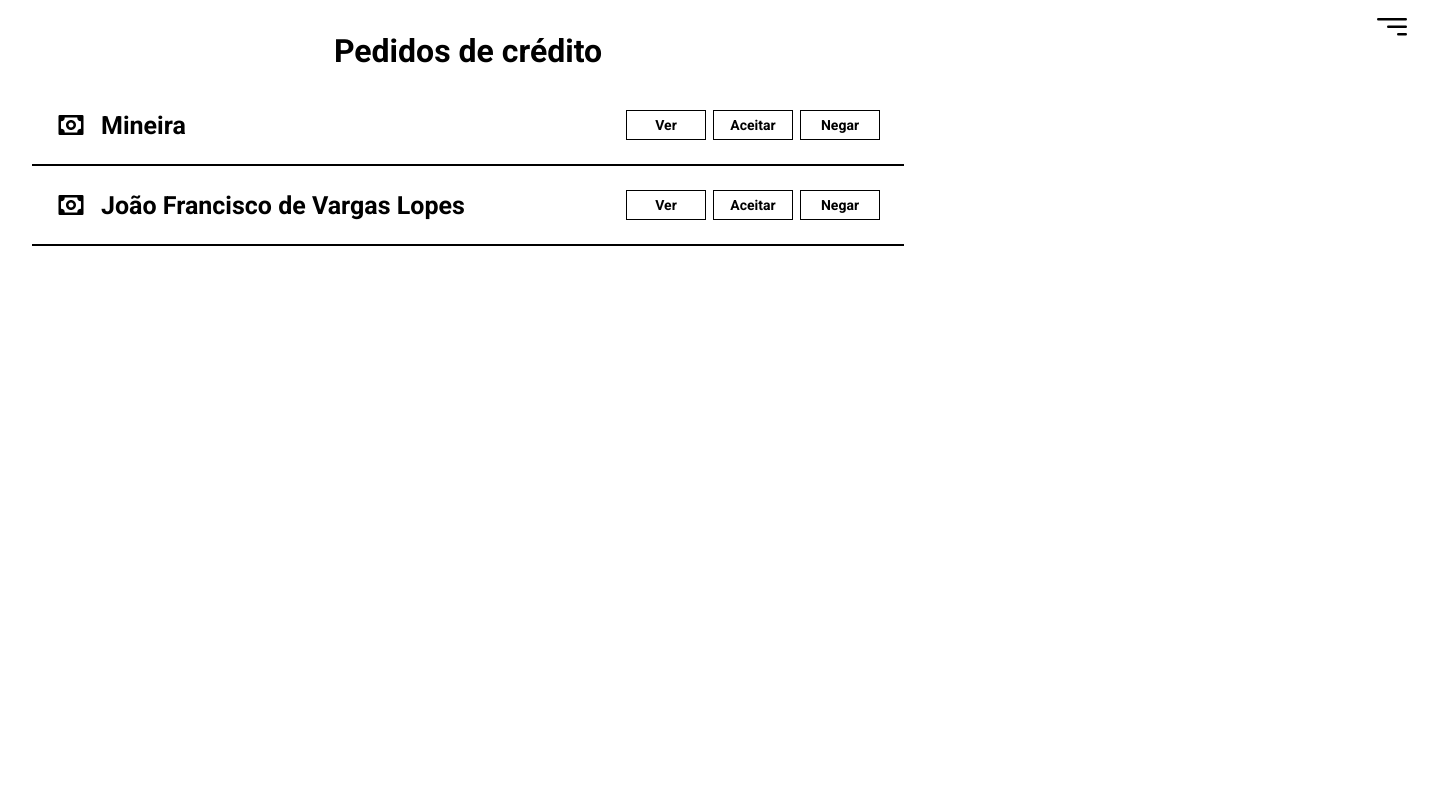
Test case: Credits › Close warning deny
Click the button "Negar" in the row of "Mineira".
click(840, 125)  # box [800,110,880,140]
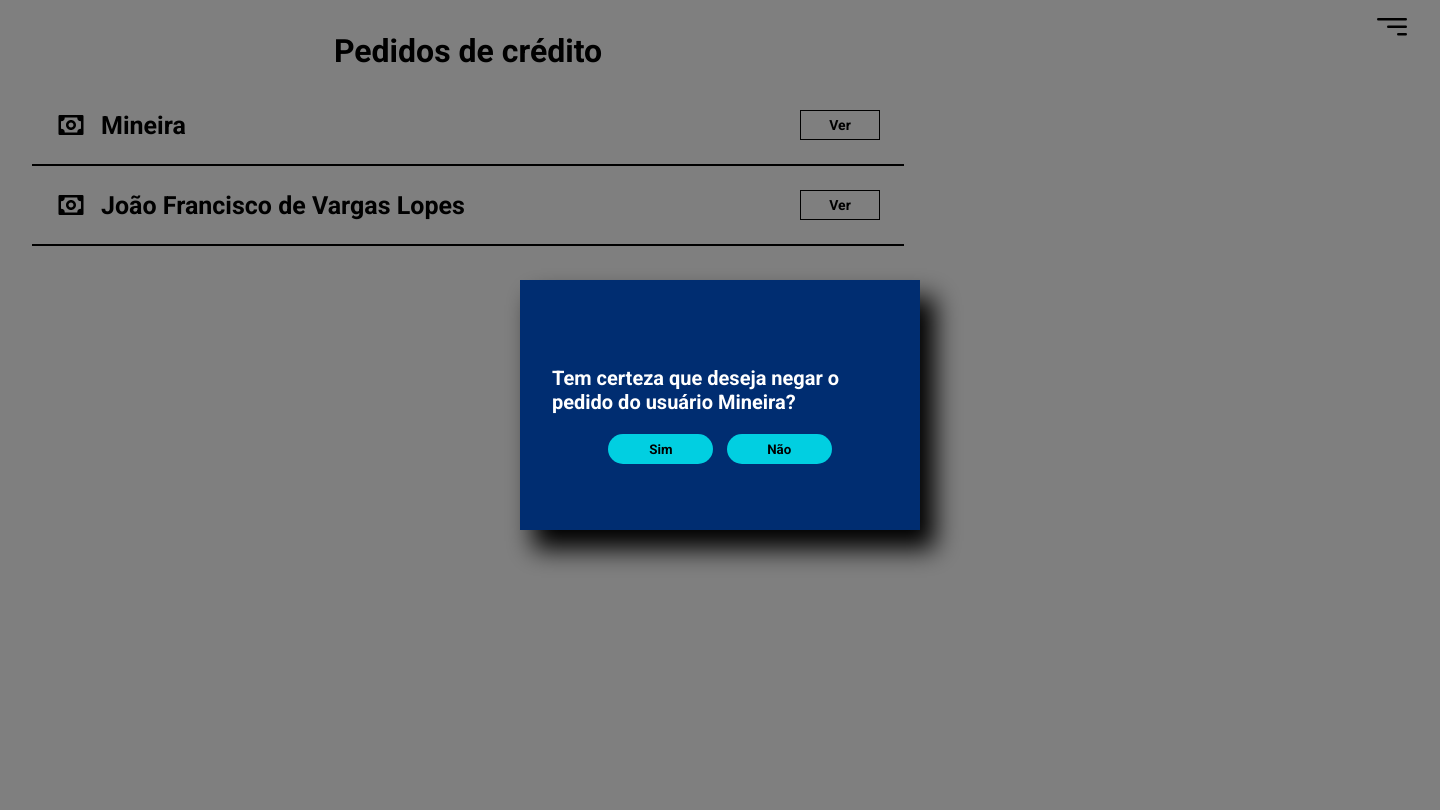
Check: the text "Tem certeza que deseja negar o pedido do usuário Mineira?" is shown, box [552,366,839,414]
Check: the button "Sim" is shown, box [608,434,713,464]
Check: the button "Não" is shown
Click the button "Não".
click(779, 449)  # box [727,434,832,464]
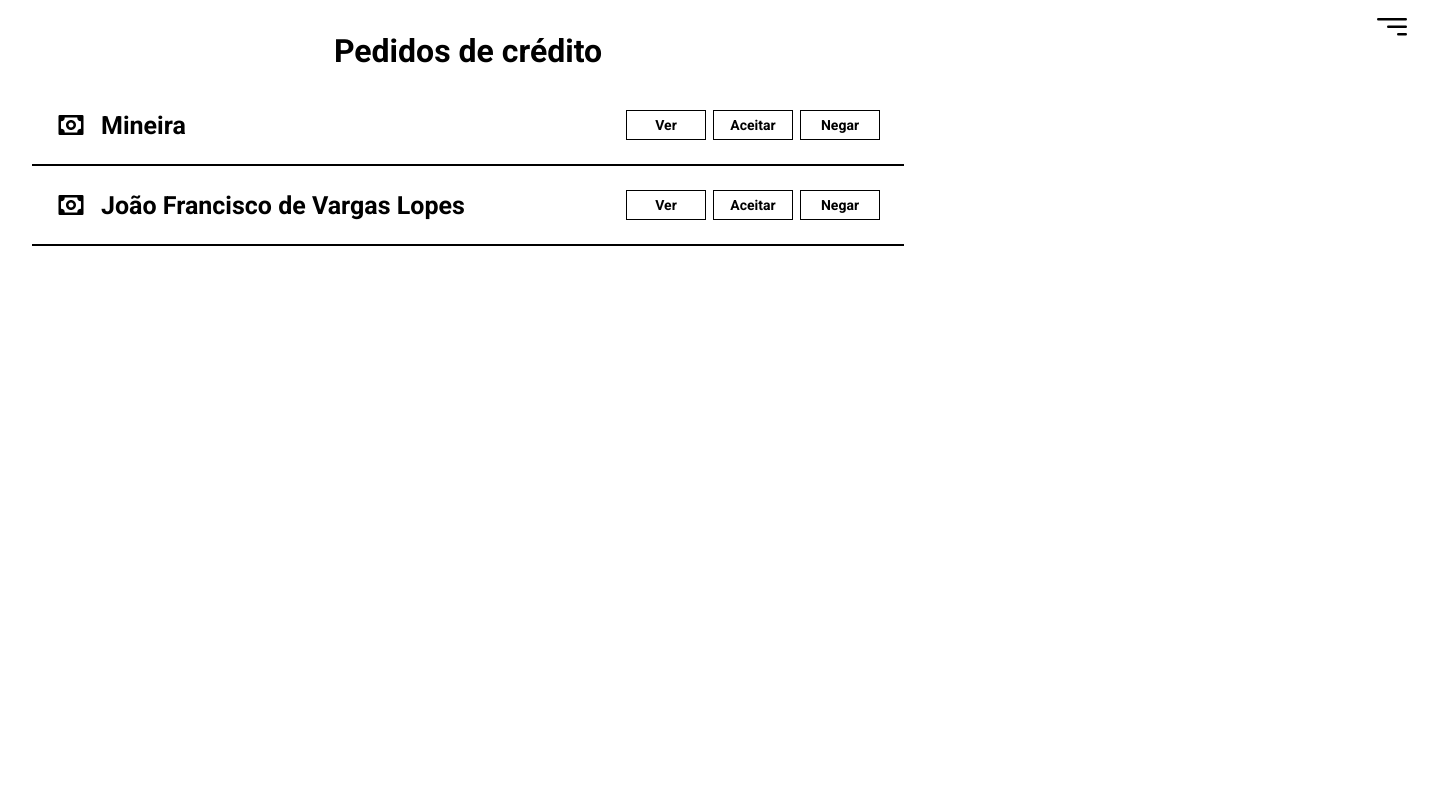
Check: the text "Tem certeza que deseja negar o pedido do usuário Mineira?" is gone
